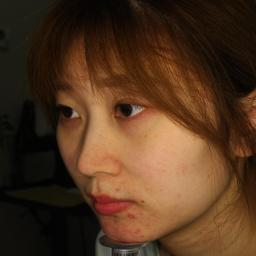ance: (171, 158, 197, 178), (170, 188, 190, 202), (111, 210, 125, 226), (134, 226, 144, 236), (113, 184, 125, 192), (140, 195, 148, 205), (128, 212, 136, 220)
